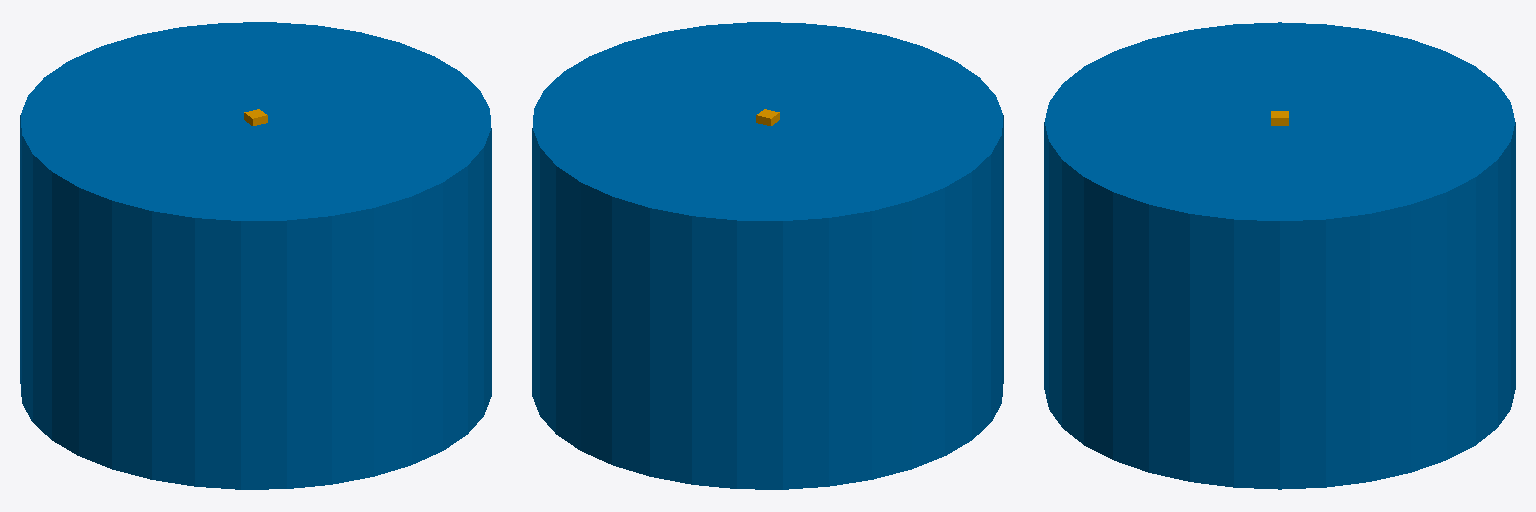
URDF robot description (Swervi):
<?xml version="1.0" ?>
<!-- =================================================================================== -->
<!-- |    This document was autogenerated by xacro from swervi.urdf.xacro              | -->
<!-- |    EDITING THIS FILE BY HAND IS NOT RECOMMENDED                                 | -->
<!-- =================================================================================== -->
<robot name="Swervi">
  <!-- base of the robot, should be ground level, centered on the robot -->
  <link name="base_link">
    <inertial>
      <mass value="0.001"/>
      <inertia ixx="0.001" ixy="0" ixz="0" iyy="0.001" iyz="0" izz="0.001"/>
    </inertial>
    <visual>
      <geometry>
        <box size="0.01 0.01 0.01"/>
      </geometry>
    </visual>
  </link>
  <gazebo reference="base_link">
    <material>Gazebo/Grey</material>
  </gazebo>
  <link name="base_footprint">
    <inertial>
      <mass value="0.001"/>
      <inertia ixx="0.001" ixy="0" ixz="0" iyy="0.001" iyz="0" izz="0.001"/>
    </inertial>
    <visual>
      <geometry>
        <box size="0.01 0.01 0.01"/>
      </geometry>
    </visual>
  </link>
  <gazebo reference="base_footprint">
    <material>Gazebo/Grey</material>
  </gazebo>
  <joint name="base_footprint_to_base_link" type="fixed">
    <parent link="base_footprint"/>
    <child link="base_link"/>
    <origin rpy="0 0 0" xyz="0.0 0.0 0.1375"/>
  </joint>
  <link name="tl_swerve_base">
    <inertial>
      <mass value="0.001"/>
      <inertia ixx="0.001" ixy="0" ixz="0" iyy="0.001" iyz="0" izz="0.001"/>
    </inertial>
    <visual>
      <geometry>
        <box size="0.01 0.01 0.01"/>
      </geometry>
    </visual>
  </link>
  <joint name="tl_swivel_offset" type="fixed">
    <parent link="tl_swerve_base"/>
    <child link="tl_swivel_axle"/>
    <origin rpy="0 0 0" xyz="0 0 -0.08636"/>
  </joint>
  <link name="tl_swivel_axle">
    <inertial>
      <mass value="0.001"/>
      <inertia ixx="0.001" ixy="0" ixz="0" iyy="0.001" iyz="0" izz="0.001"/>
    </inertial>
    <visual>
      <geometry>
        <box size="0.01 0.01 0.01"/>
      </geometry>
    </visual>
  </link>
  <joint name="tl_swivel_rev" type="continuous">
    <parent link="tl_swivel_axle"/>
    <child link="tl_swerve_swivel"/>
    <axis xyz="0 0 -1"/>
    <limit effort="8" velocity="10"/>
    <dynamics damping="0.001" friction="0.5"/>
  </joint>
  <link name="tl_swerve_swivel">
    <visual>
      <geometry>
        <cylinder length="0.17272" radius="0.1375"/>
      </geometry>
    </visual>
    <inertial>
      <mass value="1"/>
      <inertia ixx="0.4" ixy="0.0" ixz="0.0" iyy="0.4" iyz="0.0" izz="0.2"/>
    </inertial>
  </link>
  <transmission name="tl_swivel_trans">
    <type>transmission_interface/SimpleTransmission</type>
    <joint name="tl_swivel_rev">
      <hardwareInterface>hardware_interface/EffortJointInterface</hardwareInterface>
    </joint>
    <actuator name="tl_swivel_act">
      <hardwareInterface>hardware_interface/EffortJointInterface</hardwareInterface>
      <mechanicalReduction>1</mechanicalReduction>
    </actuator>
  </transmission>
  <joint name="tl_wheel_offset" type="fixed">
    <parent link="tl_swivel_axle"/>
    <child link="tl_wheel_axle"/>
    <origin rpy="0 0 0" xyz="0 0 -0.08636"/>
  </joint>
  <link name="tl_wheel_axle">
    <inertial>
      <mass value="0.001"/>
      <inertia ixx="0.001" ixy="0" ixz="0" iyy="0.001" iyz="0" izz="0.001"/>
    </inertial>
    <visual>
      <geometry>
        <box size="0.01 0.01 0.01"/>
      </geometry>
    </visual>
  </link>
  <!-- The left and right axles have the same axis so that identical
         rotation values cause the wheels to rotate in the same direction. -->
  <joint name="tl_wheel_axle" type="continuous">
    <parent link="tl_wheel_axle"/>
    <child link="tl_wheel"/>
    <origin rpy="1.5707963267948966 0 0" xyz="0 0 0"/>
    <axis xyz="0 0 0"/>
    <limit effort="8" velocity="10"/>
    <dynamics damping="0.001" friction="0.5"/>
  </joint>
  <transmission name="tl_axle_trans">
    <type>transmission_interface/SimpleTransmission</type>
    <joint name="tl_wheel_axle">
      <hardwareInterface>hardware_interface/EffortJointInterface</hardwareInterface>
    </joint>
    <actuator name="tl_axle_act">
      <!--This hardwareInterface element exists for compatibility
                    with ROS Hydro-->
      <hardwareInterface>hardware_interface/EffortJointInterface</hardwareInterface>
      <mechanicalReduction>1</mechanicalReduction>
    </actuator>
  </transmission>
  <link name="tl_wheel">
    <visual>
      <geometry>
        <mesh filename="package://swag_description/urdf/meshes/Wheel.dae"/>
      </geometry>
    </visual>
    <collision>
      <geometry>
        <mesh filename="package://swag_description/urdf/meshes/Wheel.dae"/>
      </geometry>
      <max_contacts>10</max_contacts>
      <surface>
        <contact>
          <ode>
            <soft_cfm>0.000000001</soft_cfm>
            <soft_erp>0.2</soft_erp>
            <kp>1e+10</kp>
            <kd>10</kd>
            <max_vel>0.01</max_vel>
            <min_depth>0.005</min_depth>
          </ode>
        </contact>
      </surface>
    </collision>
    <inertial>
      <origin xyz="0 0 0"/>
      <mass value="15"/>
      <inertia ixx="0.07815648750000001" ixy="0.0" ixz="0.0" iyy="0.07815648750000001" iyz="0.0" izz="0.14179687500000002"/>
    </inertial>
  </link>
  <gazebo reference="tl_wheel">
    <mu1>0.7</mu1>
    <mu2>0.75</mu2>
  </gazebo>
  <joint name="tl_drive_shock" type="prismatic">
    <parent link="base_link"/>
    <child link="tl_swerve_base"/>
    <origin rpy="0 0 0" xyz="0 0 0 "/>
    <axis xyz="0 0 -1"/>
    <limit effort="500.0" lower="-0.05" upper="0.05" velocity="0.1"/>
    <dynamics damping="100" friction="1.0" spring_reference="0.08" spring_stiffness="113832.44275"/>
  </joint>
  <transmission name="tl_drive_shock_trans">
    <type>transmission_interface/SimpleTransmission</type>
    <joint name="tl_drive_shock">
      <hardwareInterface>hardware_interface/EffortJointInterface</hardwareInterface>
    </joint>
    <actuator name="tl_drive_shock_act">
      <!-- This hardwareInterface element exists for compatibility
                    with ROS Hydro. -->
      <hardwareInterface>hardware_interface/EffortJointInterface</hardwareInterface>
      <!-- TODO parameterize to make consistent PID values work -->
      <mechanicalReduction>1</mechanicalReduction>
    </actuator>
  </transmission>
   --&gt;

    
  <!-- Just Used for testing -->
  <link name="world"/>
  <joint name="world_to_base_footprint" type="fixed">
    <parent link="world"/>
    <child link="base_footprint"/>
  </joint>
  <gazebo>
    <plugin filename="libgazebo_ros_control.so" name="gazebo_ros_control">
      <robotSimType>gazebo_ros_control/DefaultRobotHWSim</robotSimType>
    </plugin>
    <plugin filename="libgazebo_ros_p3d.so" name="p3d_base_controller">
      <alwaysOn>true</alwaysOn>
      <updateRate>200.0</updateRate>
      <bodyName>base_footprint</bodyName>
      <topicName>ground_truth/state_raw</topicName>
      <gaussianNoise>0.00</gaussianNoise>
      <frameName>world</frameName>
      <!-- origin is at spawn location -->
      <xyzOffset>0 0 0</xyzOffset>
      <rpyOffset>0 0 0</rpyOffset>
    </plugin>
  </gazebo>
</robot>

--- What the picture shows (computed from the rendered views, not written in the file) ---
3 views of the same robot in one strip: view 1: azimuth 30°, elevation 25°; view 2: azimuth 150°, elevation 25°; view 3: azimuth 270°, elevation 25° (orthographic).
Robot: Swervi — 8 links, 7 joints (2 continuous, 1 prismatic, 4 fixed); root link world; default pose: every joint at zero.
Links seen in each view (by area): view 1: tl_swerve_swivel; view 2: tl_swerve_swivel; view 3: tl_swerve_swivel.
Boxes of the visible links, bbox=[...] form: tl_swerve_swivel: bbox=[20, 22, 491, 489]; tl_swerve_swivel: bbox=[532, 22, 1003, 489]; tl_swerve_swivel: bbox=[1044, 22, 1515, 489].
Bounding box of the posed robot: 0.275 × 0.275 × 0.1827 m (x, y, z).
Meshes: 1 distinct files referenced, 0 mesh visuals loaded (none loaded); not drawn: 1 (reference not matched to a file when rendering).
